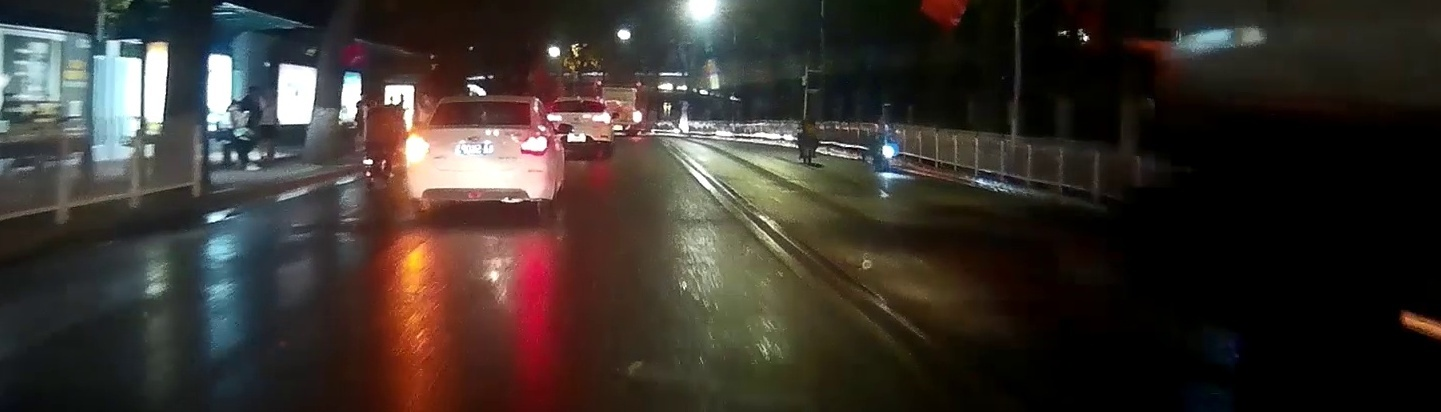L_light: (408, 137, 431, 156)
R_light: (520, 135, 549, 155)
T_light: (473, 101, 493, 105)
night-left: (406, 94, 552, 215)
